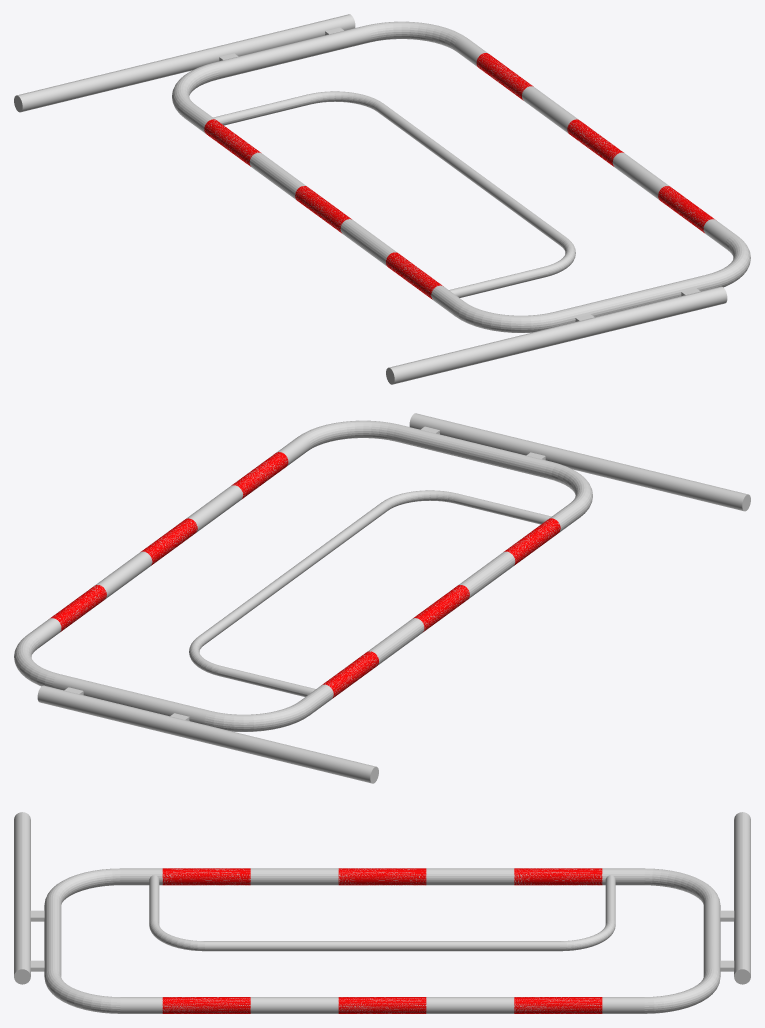
File: barierka.dae
The picture shows the model from 3 angles, top to bottom: view 1: azimuth 30°, elevation 25°; view 2: azimuth 150°, elevation 25°; view 3: azimuth 270°, elevation 25°; orthographic projection. The views are drawn at different scales.
Visible parts, largest first — view 1: SketchUp (×12); view 2: SketchUp (×12); view 3: SketchUp (×12).
Part boxes in pixels (<box>): SketchUp (×12): <box>14,14,750,384</box>; SketchUp (×12): <box>14,413,750,783</box>; SketchUp (×12): <box>14,812,750,1013</box>.
Size of the model in its own units: 52.17 by 85.83 by 1.97.
